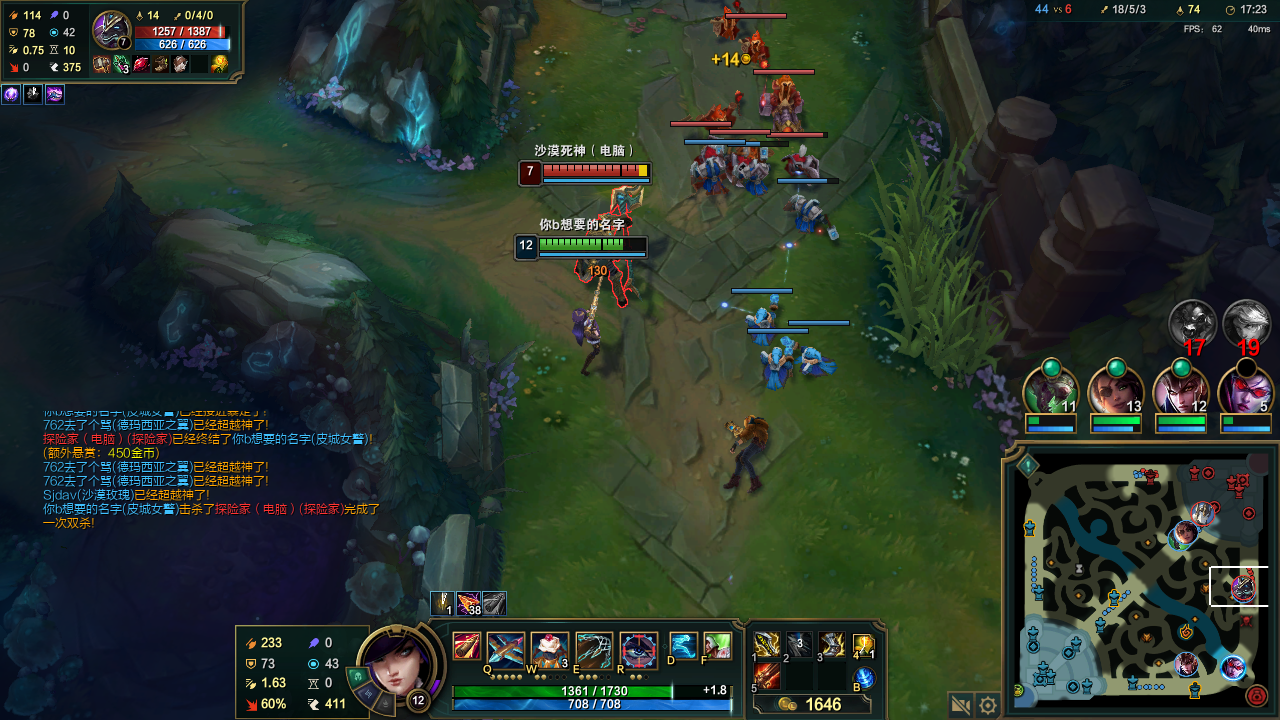DFXB: (689, 132, 729, 159)
DFYX: (759, 83, 811, 139), (539, 164, 659, 179), (779, 152, 819, 181), (712, 7, 741, 39), (730, 137, 762, 160), (747, 36, 774, 60)
WFXB: (790, 188, 837, 237), (792, 348, 840, 387), (754, 345, 796, 386), (739, 306, 781, 343), (738, 160, 770, 195), (697, 153, 723, 189)
